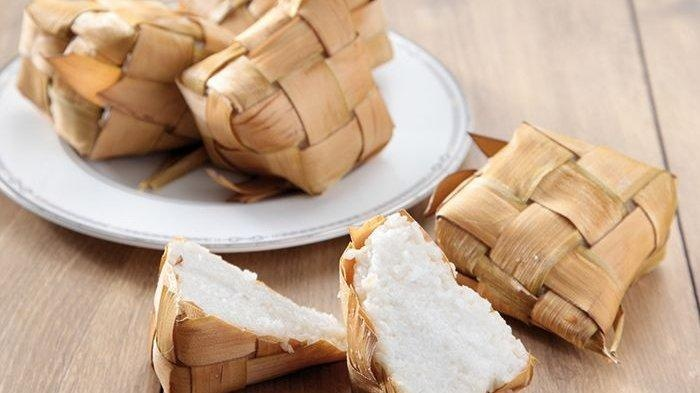ketupat: (432, 121, 680, 354), (176, 0, 393, 197)
